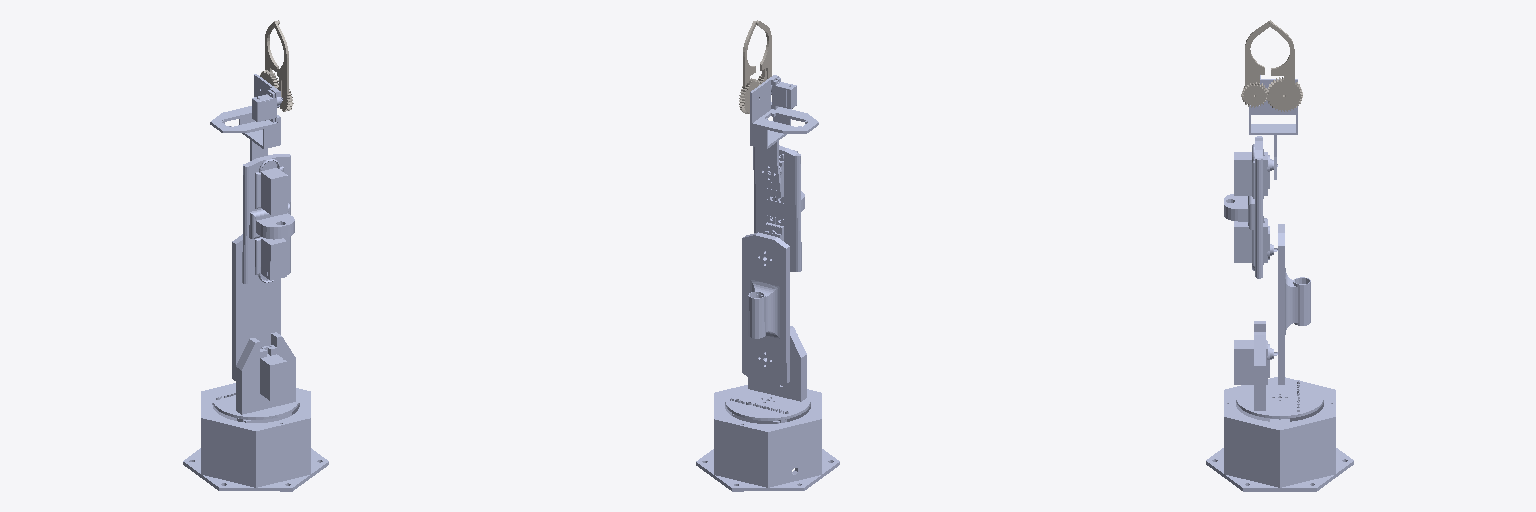
The robot description file, URDF, robot "urdffp":
<?xml version="1.0" encoding="utf-8"?>
<!-- This URDF was automatically created by SolidWorks to URDF Exporter! Originally created by [author] ([email redacted]) 
     Commit Version: 1.6.0-4-g7f85cfe  Build Version: 1.6.7995.38578
     For more information, please see http://wiki.ros.org/sw_urdf_exporter -->
<robot
  name="urdffp">
  <link
    name="base">
    <inertial>
      <origin
        xyz="0.00250555328330903 -3.81462588426087E-05 0.0316963277414826"
        rpy="0 0 0" />
      <mass
        value="0.272903164017977" />
      <inertia
        ixx="0.000429690662720169"
        ixy="-4.91905405591446E-07"
        ixz="5.0446404090374E-06"
        iyy="0.000444630381267082"
        iyz="-1.1942225610325E-07"
        izz="0.000690420746922854" />
    </inertial>
    <visual>
      <origin
        xyz="0 0 0"
        rpy="0 0 0" />
      <geometry>
        <mesh
          filename="package://urdffp/meshes/base.STL" />
      </geometry>
      <material
        name="">
        <color
          rgba="0.792156862745098 0.819607843137255 0.933333333333333 1" />
      </material>
    </visual>
    <collision>
      <origin
        xyz="0 0 0"
        rpy="0 0 0" />
      <geometry>
        <mesh
          filename="package://urdffp/meshes/base.STL" />
      </geometry>
    </collision>
  </link>
  <link
    name="piringan">
    <inertial>
      <origin
        xyz="7.1158142641946E-05 -0.0184666186242548 0.0329887975542059"
        rpy="0 0 0" />
      <mass
        value="0.0882364212464755" />
      <inertia
        ixx="5.52167146898469E-05"
        ixy="1.20492494645693E-08"
        ixz="-1.82420450568254E-08"
        iyy="6.33014176342086E-05"
        iyz="8.67867232448484E-06"
        izz="4.46058697242766E-05" />
    </inertial>
    <visual>
      <origin
        xyz="0 0 0"
        rpy="0 0 0" />
      <geometry>
        <mesh
          filename="package://urdffp/meshes/piringan.STL" />
      </geometry>
      <material
        name="">
        <color
          rgba="0.792156862745098 0.819607843137255 0.933333333333333 1" />
      </material>
    </visual>
    <collision>
      <origin
        xyz="0 0 0"
        rpy="0 0 0" />
      <geometry>
        <mesh
          filename="package://urdffp/meshes/piringan.STL" />
      </geometry>
    </collision>
  </link>
  <joint
    name="servopiringan"
    type="revolute">
    <origin
      xyz="-3.0958E-05 0 0.0689"
      rpy="0 0 0" />
    <parent
      link="base" />
    <child
      link="piringan" />
    <axis
      xyz="-0.0020906 0 -1" />
    <limit
      lower="-3.14"
      upper="3.14"
      effort="0.83357"
      velocity="5.236" />
  </joint>
  <link
    name="link1">
    <inertial>
      <origin
        xyz="0.0558755183846822 0.00100866111594956 0.00296163275902246"
        rpy="0 0 0" />
      <mass
        value="0.0802065215999488" />
      <inertia
        ixx="1.8336321239439E-05"
        ixy="-4.26590175619785E-07"
        ixz="-2.49033577033556E-07"
        iyy="0.000160165932423911"
        iyz="1.00241541645658E-07"
        izz="0.000174697138177849" />
    </inertial>
    <visual>
      <origin
        xyz="0 0 0"
        rpy="0 0 0" />
      <geometry>
        <mesh
          filename="package://urdffp/meshes/link1.STL" />
      </geometry>
      <material
        name="">
        <color
          rgba="0.792156862745098 0.819607843137255 0.933333333333333 1" />
      </material>
    </visual>
    <collision>
      <origin
        xyz="0 0 0"
        rpy="0 0 0" />
      <geometry>
        <mesh
          filename="package://urdffp/meshes/link1.STL" />
      </geometry>
    </collision>
  </link>
  <joint
    name="servolink1"
    type="revolute">
    <origin
      xyz="0.0001138 0 0.054433"
      rpy="-1.5708 -1.5708 0" />
    <parent
      link="piringan" />
    <child
      link="link1" />
    <axis
      xyz="0 0 -1" />
    <limit
      lower="-3.14"
      upper="3.14"
      effort="0.83357"
      velocity="5.236" />
  </joint>
  <link
    name="link2">
    <inertial>
      <origin
        xyz="0.0473240197953751 0.000304211858951464 -0.0268494662534417"
        rpy="0 0 0" />
      <mass
        value="0.12585545698654" />
      <inertia
        ixx="3.01850761095069E-05"
        ixy="-4.14096974678988E-07"
        ixz="-1.50995829214283E-12"
        iyy="9.45981727378192E-05"
        iyz="7.4107473724615E-14"
        izz="0.000102469638299712" />
    </inertial>
    <visual>
      <origin
        xyz="0 0 0"
        rpy="0 0 0" />
      <geometry>
        <mesh
          filename="package://urdffp/meshes/link2.STL" />
      </geometry>
      <material
        name="">
        <color
          rgba="0.792156862745098 0.819607843137255 0.933333333333333 1" />
      </material>
    </visual>
    <collision>
      <origin
        xyz="0 0 0"
        rpy="0 0 0" />
      <geometry>
        <mesh
          filename="package://urdffp/meshes/link2.STL" />
      </geometry>
    </collision>
  </link>
  <joint
    name="servolink2"
    type="revolute">
    <origin
      xyz="0.116 0.00030718 0"
      rpy="0 0 0" />
    <parent
      link="link1" />
    <child
      link="link2" />
    <axis
      xyz="0 0 -1" />
    <limit
      lower="-3.14"
      upper="3.14"
      effort="0.83357"
      velocity="5.236" />
  </joint>
  <link
    name="link3">
    <inertial>
      <origin
        xyz="0.0628215287302671 -0.0040623495513205 -0.0114412294838502"
        rpy="0 0 0" />
      <mass
        value="0.0260593092533598" />
      <inertia
        ixx="9.09683554106757E-06"
        ixy="-2.36209174504339E-07"
        ixz="-2.93645570162803E-08"
        iyy="1.53439259309833E-05"
        iyz="-1.46574704090451E-07"
        izz="1.61650308365597E-05" />
    </inertial>
    <visual>
      <origin
        xyz="0 0 0"
        rpy="0 0 0" />
      <geometry>
        <mesh
          filename="package://urdffp/meshes/link3.STL" />
      </geometry>
      <material
        name="">
        <color
          rgba="0.792156862745098 0.819607843137255 0.933333333333333 1" />
      </material>
    </visual>
    <collision>
      <origin
        xyz="0 0 0"
        rpy="0 0 0" />
      <geometry>
        <mesh
          filename="package://urdffp/meshes/link3.STL" />
      </geometry>
    </collision>
  </link>
  <joint
    name="servolink3"
    type="revolute">
    <origin
      xyz="0.094648 0.00060842 0"
      rpy="0 0 0" />
    <parent
      link="link2" />
    <child
      link="link3" />
    <axis
      xyz="0 0 1" />
    <limit
      lower="-3.14"
      upper="3.14"
      effort="0.83357"
      velocity="5.236" />
  </joint>
  <link
    name="linkgear1">
    <inertial>
      <origin
        xyz="0.0163906353388061 0.000516730054567798 0.00637440803941411"
        rpy="0 0 0" />
      <mass
        value="0.00474004808682916" />
      <inertia
        ixx="2.07881514044574E-07"
        ixy="4.02451023326036E-08"
        ixz="7.49281426603522E-08"
        iyy="2.70247207620343E-06"
        iyz="2.38664167546256E-09"
        izz="2.88535011788772E-06" />
    </inertial>
    <visual>
      <origin
        xyz="0 0 0"
        rpy="0 0 0" />
      <geometry>
        <mesh
          filename="package://urdffp/meshes/linkgear1.STL" />
      </geometry>
      <material
        name="">
        <color
          rgba="0.776470588235294 0.756862745098039 0.737254901960784 1" />
      </material>
    </visual>
    <collision>
      <origin
        xyz="0 0 0"
        rpy="0 0 0" />
      <geometry>
        <mesh
          filename="package://urdffp/meshes/linkgear1.STL" />
      </geometry>
    </collision>
  </link>
  <joint
    name="servogear"
    type="revolute">
    <origin
      xyz="0.08705 0.011 -0.0255"
      rpy="-1.5708 0 0" />
    <parent
      link="link3" />
    <child
      link="linkgear1" />
    <axis
      xyz="0 0 1" />
    <limit
      lower="-3.14"
      upper="3.14"
      effort="0.17652"
      velocity="10.472" />
  </joint>
  <link
    name="endpointgear">
    <inertial>
      <origin
        xyz="-0.317865599787913 0.000384707865205851 0.0330288180921796"
        rpy="0 0 0" />
      <mass
        value="0.605238076529163" />
      <inertia
        ixx="0.00178662577215017"
        ixy="-0.000338252148447424"
        ixz="0.00151227607641661"
        iyy="0.00655019527270797"
        iyz="0.000207474596412363"
        izz="0.00569264985514613" />
    </inertial>
    <visual>
      <origin
        xyz="0 0 0"
        rpy="0 0 0" />
      <geometry>
        <mesh
          filename="package://urdffp/meshes/endpointgear.STL" />
      </geometry>
      <material
        name="">
        <color
          rgba="1 1 1 1" />
      </material>
    </visual>
    <collision>
      <origin
        xyz="0 0 0"
        rpy="0 0 0" />
      <geometry>
        <mesh
          filename="package://urdffp/meshes/endpointgear.STL" />
      </geometry>
    </collision>
  </link>
  <joint
    name="endpoint1"
    type="fixed">
    <origin
      xyz="0.080522 -0.017346 0"
      rpy="0 0 0" />
    <parent
      link="linkgear1" />
    <child
      link="endpointgear" />
    <axis
      xyz="0 0 0" />
  </joint>
  <link
    name="linkgearpalsu">
    <inertial>
      <origin
        xyz="0.0090459102896332 -0.000332822380325673 0.00735793539836838"
        rpy="0 0 0" />
      <mass
        value="0.00723714741075858" />
      <inertia
        ixx="5.26278703132282E-07"
        ixy="2.71611746965217E-08"
        ixz="-8.13137293466571E-08"
        iyy="3.05691434567241E-06"
        iyz="2.99174191295334E-09"
        izz="3.5409337967525E-06" />
    </inertial>
    <visual>
      <origin
        xyz="0 0 0"
        rpy="0 0 0" />
      <geometry>
        <mesh
          filename="package://urdffp/meshes/linkgearpalsu.STL" />
      </geometry>
      <material
        name="">
        <color
          rgba="0.776470588235294 0.756862745098039 0.737254901960784 1" />
      </material>
    </visual>
    <collision>
      <origin
        xyz="0 0 0"
        rpy="0 0 0" />
      <geometry>
        <mesh
          filename="package://urdffp/meshes/linkgearpalsu.STL" />
      </geometry>
    </collision>
  </link>
  <joint
    name="servogearpalsu"
    type="revolute">
    <origin
      xyz="0.08695 0.011 0.0045"
      rpy="-1.5708 0 0" />
    <parent
      link="link3" />
    <child
      link="linkgearpalsu" />
    <axis
      xyz="0 0 1" />
    <limit
      lower="-3.14"
      upper="3.14"
      effort="0.17652"
      velocity="10.472" />
  </joint>
  <link
    name="endpointpalsu">
    <inertial>
      <origin
        xyz="-0.317271893020754 -0.00201862954833724 0.0330288180921796"
        rpy="0 0 0" />
      <mass
        value="0.605238076529163" />
      <inertia
        ixx="0.00178662577215017"
        ixy="-0.000338252148447424"
        ixz="0.00151227607641661"
        iyy="0.00655019527270797"
        iyz="0.000207474596412363"
        izz="0.00569264985514613" />
    </inertial>
    <visual>
      <origin
        xyz="0 0 0"
        rpy="0 0 0" />
      <geometry>
        <mesh
          filename="package://urdffp/meshes/endpointpalsu.STL" />
      </geometry>
      <material
        name="">
        <color
          rgba="1 1 1 1" />
      </material>
    </visual>
    <collision>
      <origin
        xyz="0 0 0"
        rpy="0 0 0" />
      <geometry>
        <mesh
          filename="package://urdffp/meshes/endpointpalsu.STL" />
      </geometry>
    </collision>
  </link>
  <joint
    name="endpoint2"
    type="fixed">
    <origin
      xyz="0.080028 0.015057 0"
      rpy="0 0 0" />
    <parent
      link="linkgearpalsu" />
    <child
      link="endpointpalsu" />
    <axis
      xyz="0 0 0" />
  </joint>
</robot>

--- What the picture shows (computed from the rendered views, not written in the file) ---
3 views of the same robot in one strip: view 1: azimuth 30°, elevation 25°; view 2: azimuth 150°, elevation 25°; view 3: azimuth 270°, elevation 25° (orthographic).
Robot: urdffp — 9 links, 8 joints (6 revolute, 2 fixed); root link base; default pose: every joint at zero.
Visible links, largest first — view 1: base, link2, piringan, link1, link3, linkgear1, linkgearpalsu; view 2: base, link1, link2, link3, piringan, linkgearpalsu; view 3: base, piringan, link2, link1, linkgearpalsu, link3, linkgear1.
Link boxes in pixels (box(x1,y1,x2,y2)): base: box(183, 384, 328, 491); link2: box(242, 154, 294, 283); piringan: box(213, 332, 298, 419); link1: box(232, 234, 280, 380); link3: box(210, 74, 282, 160); linkgear1: box(273, 21, 293, 111); linkgearpalsu: box(260, 20, 279, 87); base: box(696, 386, 839, 491); link1: box(742, 232, 789, 386); link2: box(753, 145, 804, 271); link3: box(750, 75, 818, 183); piringan: box(725, 326, 810, 420); linkgearpalsu: box(739, 21, 760, 113); base: box(1206, 377, 1353, 491); piringan: box(1234, 321, 1323, 418); link2: box(1224, 136, 1277, 278); link1: box(1278, 224, 1310, 384); linkgearpalsu: box(1266, 22, 1302, 111); link3: box(1249, 75, 1297, 179); linkgear1: box(1241, 20, 1272, 107).
Size in the robot's own frame: 0.1301 by 0.1501 by 0.5024 metres.
Meshes: 9 distinct files referenced, 7 mesh visuals loaded (7 binary STL); not drawn: 2 (reference not matched to a file when rendering).